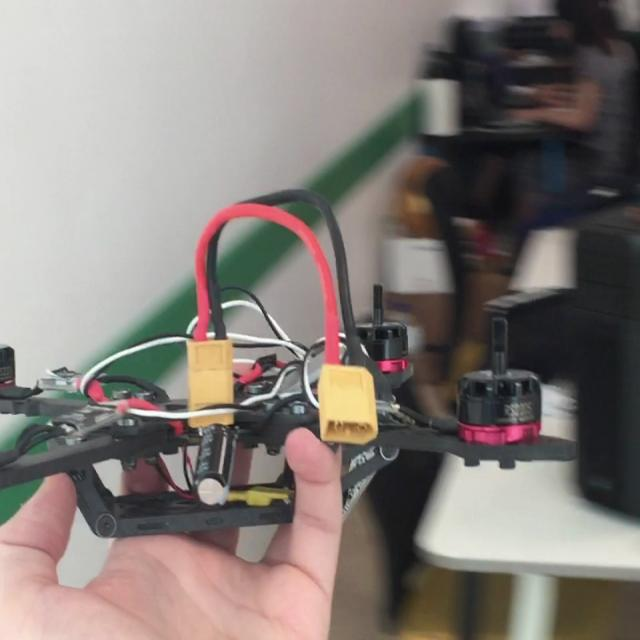drone: (0, 248, 588, 544)
